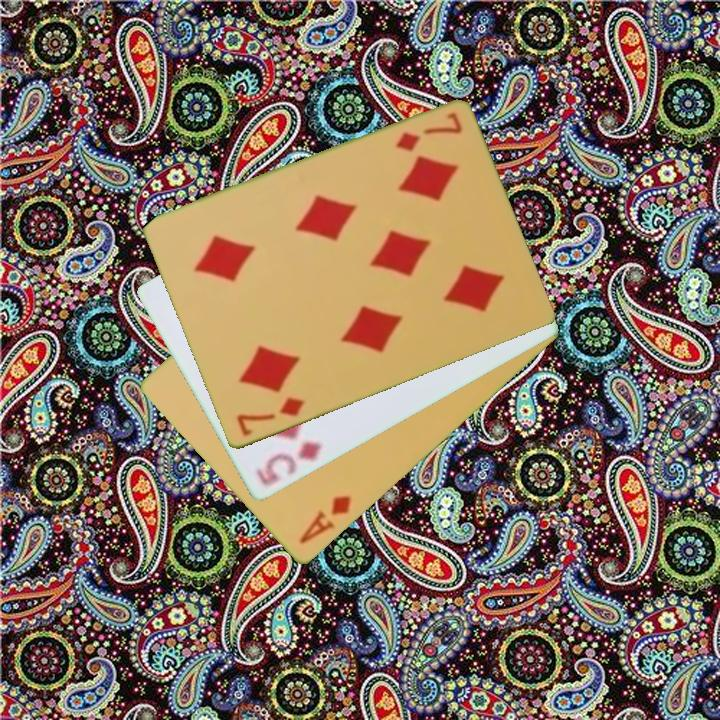5d: (252, 437, 326, 490)
7d: (232, 394, 308, 440), (392, 109, 465, 155)
Ad: (295, 492, 354, 548)
